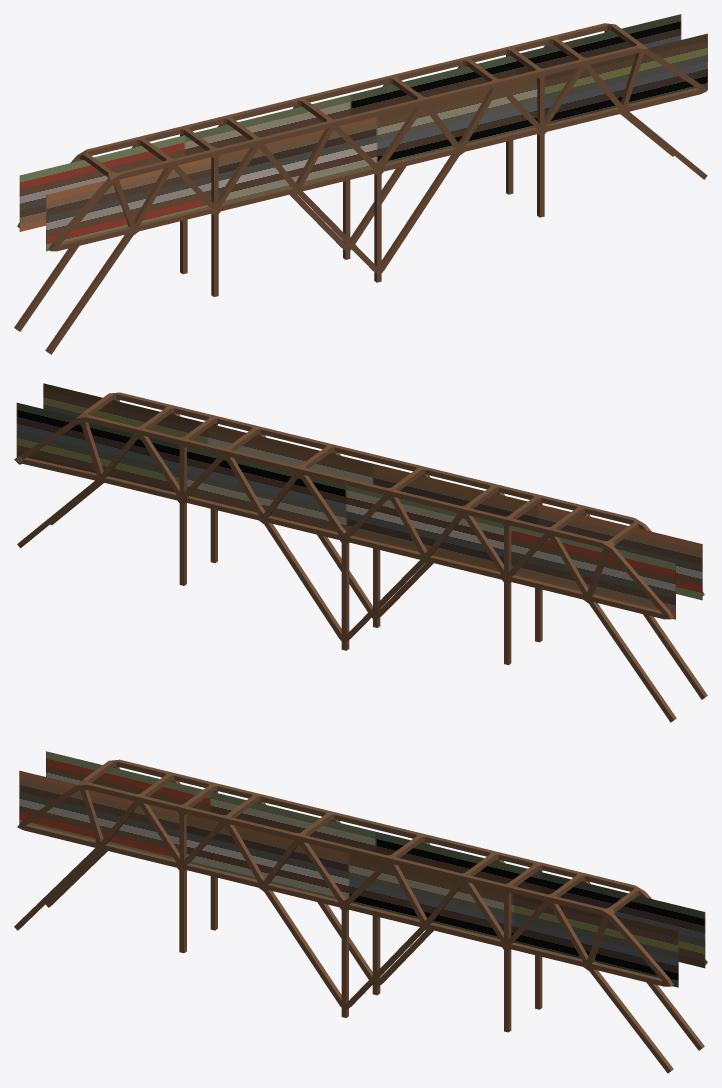
File: PuenteColgante.fbx
The picture shows the model from 3 angles, top to bottom: view 1: azimuth 30°, elevation 25°; view 2: azimuth 150°, elevation 25°; view 3: azimuth 330°, elevation 25°; orthographic projection.
Parts seen in each view (by area): view 1: Plane, Cube; view 2: Plane, Cube; view 3: Plane, Cube.
Boxes of the visible parts, x1=… form: Plane: x1=19, y1=14, x2=707, y2=251; Cube: x1=14, y1=23, x2=707, y2=354; Plane: x1=16, y1=383, x2=702, y2=619; Cube: x1=14, y1=392, x2=707, y2=722; Plane: x1=19, y1=751, x2=705, y2=987; Cube: x1=14, y1=759, x2=707, y2=1073.
Bounding box in the file's own units: 2456 × 604 × 231.
